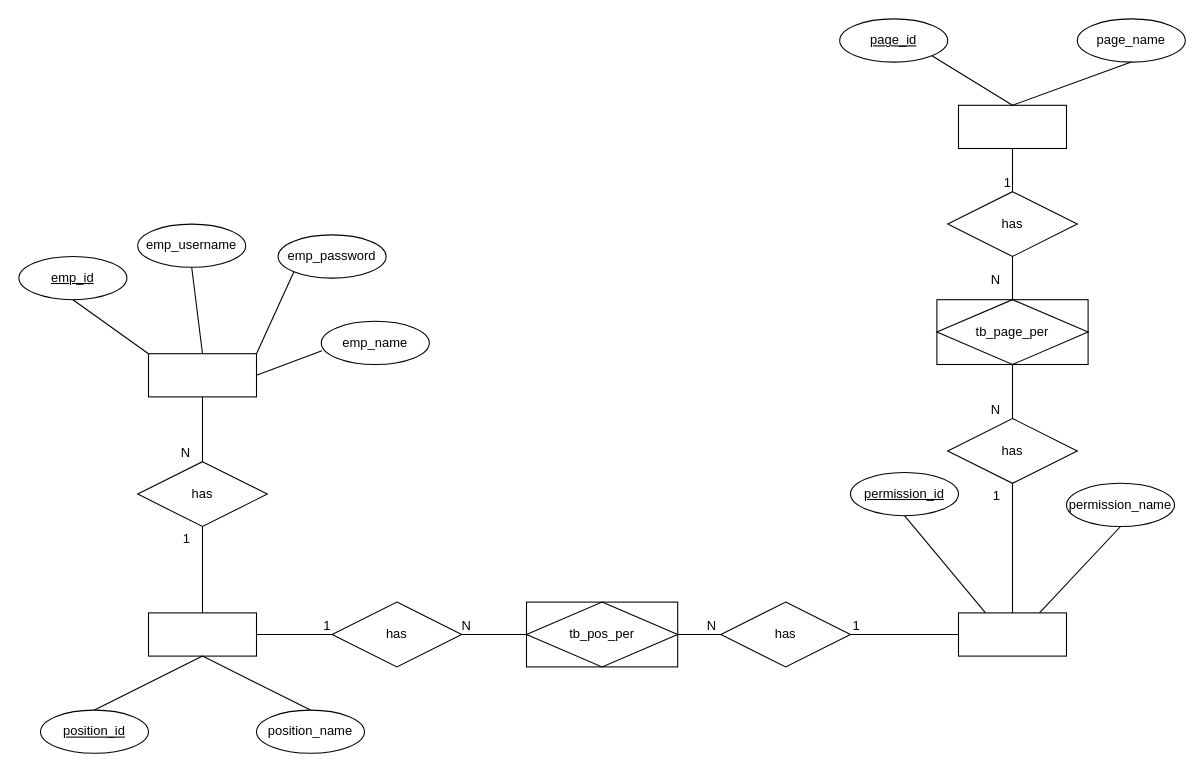
Image size: 1204x772. Some labels were removed from this diagram. Here are the shapes that lost their labels. From the top down, the centre of each, then its label:
(1011,126): tb_page
(201,375): tb_emp
(201,634): tb_position
(1011,634): tb_permission
